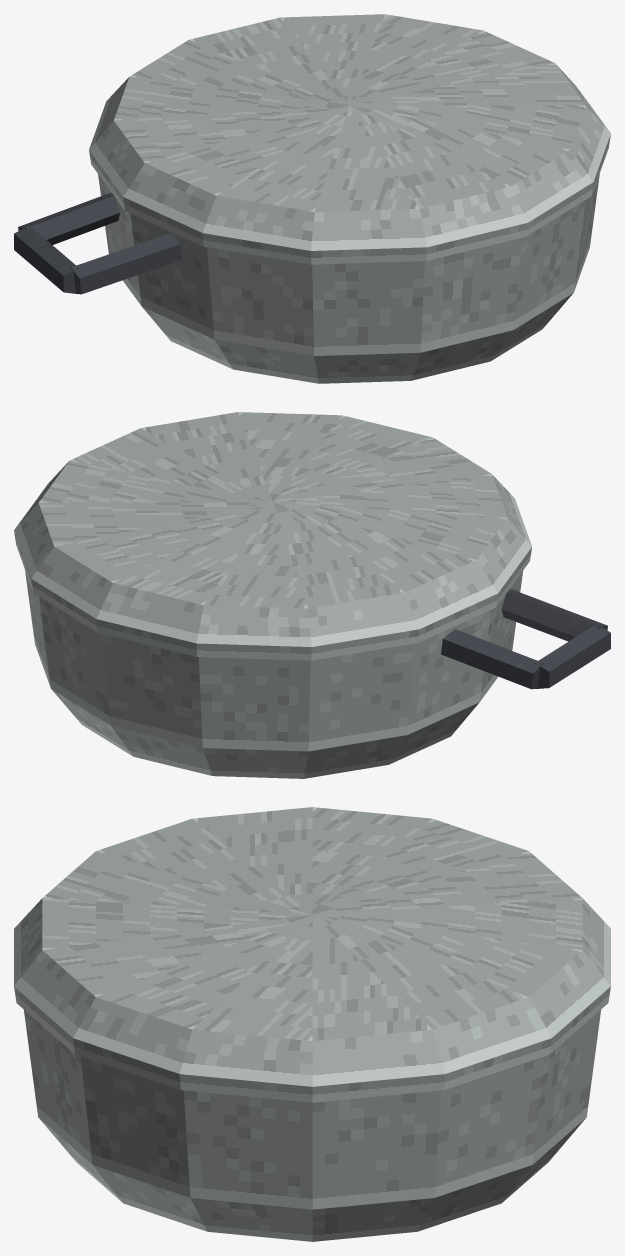
Rendered from mess_kit.glb.
3 views of the same model, one above another, from view 1: azimuth 30°, elevation 25°; view 2: azimuth 150°, elevation 25°; view 3: azimuth 270°, elevation 25° (orthographic). The views are drawn at different scales.
Parts seen in each view (by area): view 1: block_fitted pan lid, block_stacked cook pot, block_folded wire handle 2, block_folded wire handle 0, block_folded wire handle 1; view 2: block_fitted pan lid, block_stacked cook pot, block_folded wire handle 0, block_folded wire handle 2, block_folded wire handle 1; view 3: block_fitted pan lid, block_stacked cook pot.
Part boxes in pixels (box(x1,y1,x2,y2)): block_fitted pan lid: box(89, 14, 610, 264); block_stacked cook pot: box(98, 174, 599, 383); block_folded wire handle 2: box(70, 234, 182, 294); block_folded wire handle 0: box(18, 192, 119, 244); block_folded wire handle 1: box(14, 225, 79, 294); block_fitted pan lid: box(14, 412, 531, 660); block_stacked cook pot: box(25, 570, 522, 778); block_folded wire handle 0: box(441, 629, 543, 689); block_folded wire handle 2: box(501, 589, 607, 641); block_folded wire handle 1: box(535, 624, 610, 688); block_fitted pan lid: box(14, 807, 610, 1102); block_stacked cook pot: box(24, 1010, 600, 1241).
Bounding box in the file's own units: 0.15 × 0.051 × 0.1228.
2 materials, 2 textured.
